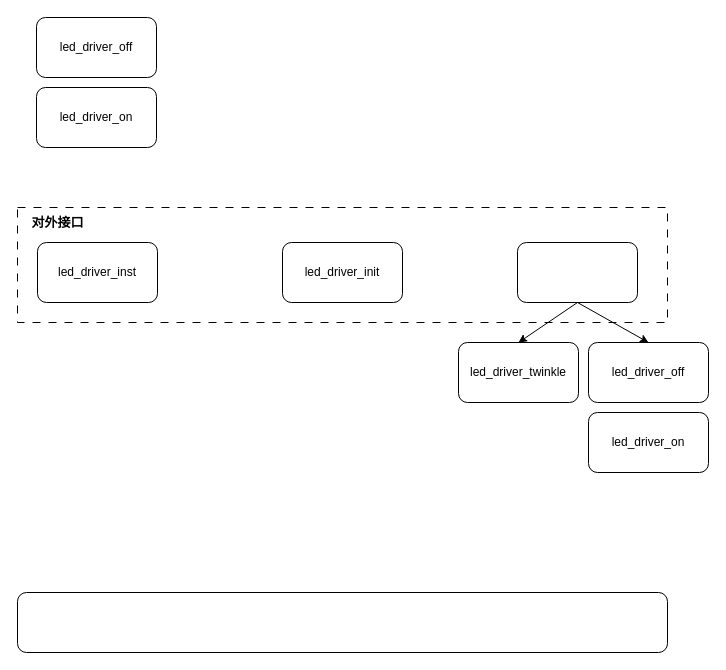
Some shapes in this 726 by 670 pixel diagram are drawn without their labels. The centre of each missing label's shape, as x and y in pixels:
"led_driver_ctrl" belongs at [577,272].
"LED对象" belongs at [342,622].
